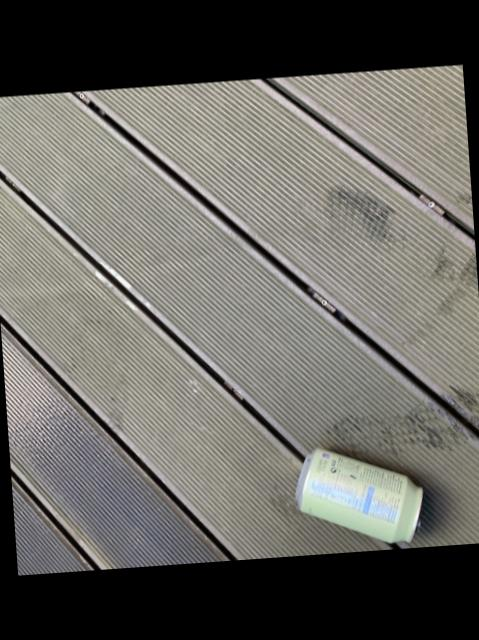metal: (290, 445, 423, 544)
